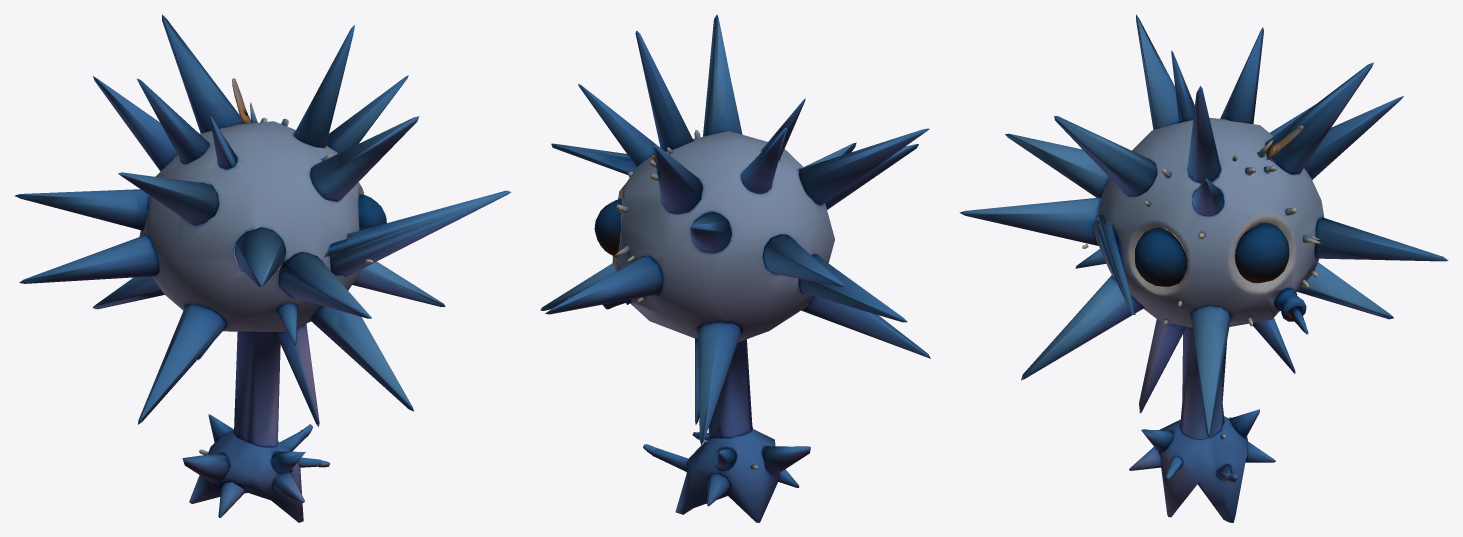
The picture shows the model from 3 angles, left to right: view 1: azimuth 30°, elevation 25°; view 2: azimuth 150°, elevation 25°; view 3: azimuth 270°, elevation 25°; orthographic projection. The views are drawn at different scales.
Parts seen in each view (by area): view 1: tripo_node_537c82e6; view 2: tripo_node_537c82e6; view 3: tripo_node_537c82e6.
Part boxes in pixels (bbox=[...]): tripo_node_537c82e6: bbox=[14, 14, 511, 522]; tripo_node_537c82e6: bbox=[540, 14, 930, 522]; tripo_node_537c82e6: bbox=[959, 14, 1448, 522].
Bounding box in the file's own units: 0.9512 × 0.998 × 0.9473.
1 material, 1 textured.
